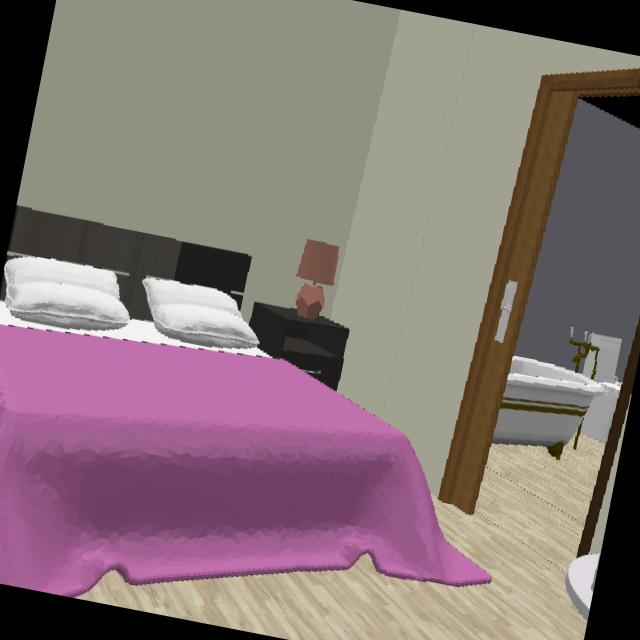bathtube: (492, 356, 617, 458)
bed: (0, 302, 492, 599)
lamp: (295, 240, 339, 321)
nighttable: (248, 303, 350, 390)
pillow: (3, 257, 131, 338), (142, 277, 259, 350)
toilet: (576, 334, 622, 450)
